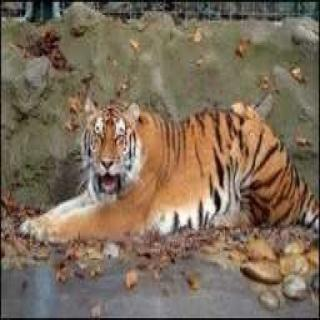Tiger: (14, 93, 320, 247)
